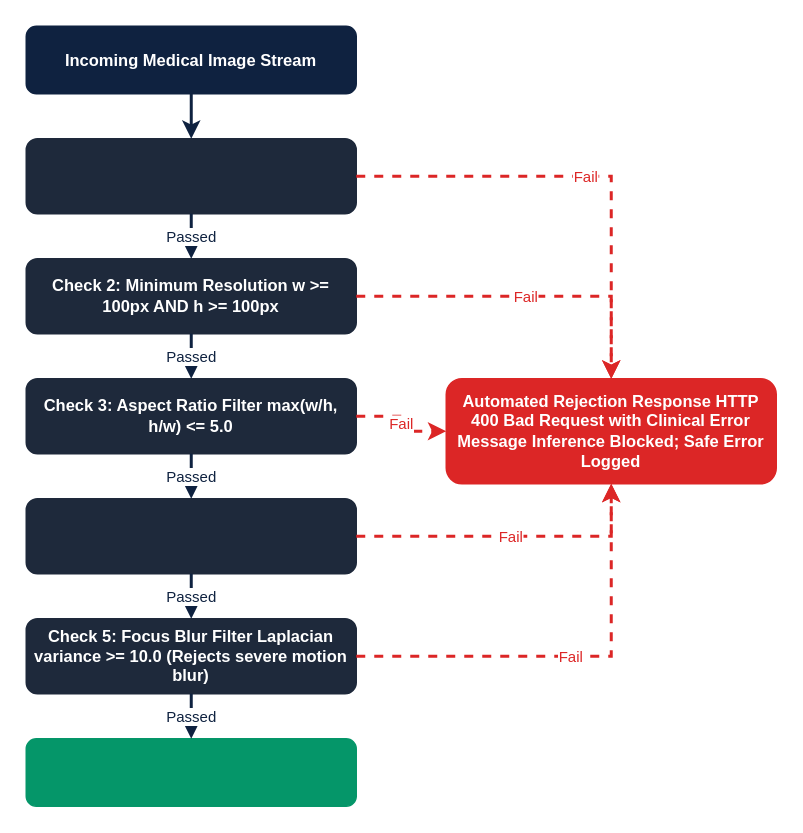
This 803x833 diagram has some shape labels left out. The box of each missing label's shape, as (x1, y1, x2, y2) in pixels:
Check 1: File Format & Decode Pillow / OpenCV RGB decoding: (25, 137, 356, 214)
Check 4: Canvas Variance Grayscale std_dev >= 5.0 (Rejects solid/blank frames): (25, 497, 356, 574)
Input Approved -> Routed to PyTorch Inference Engine: (25, 737, 356, 806)
